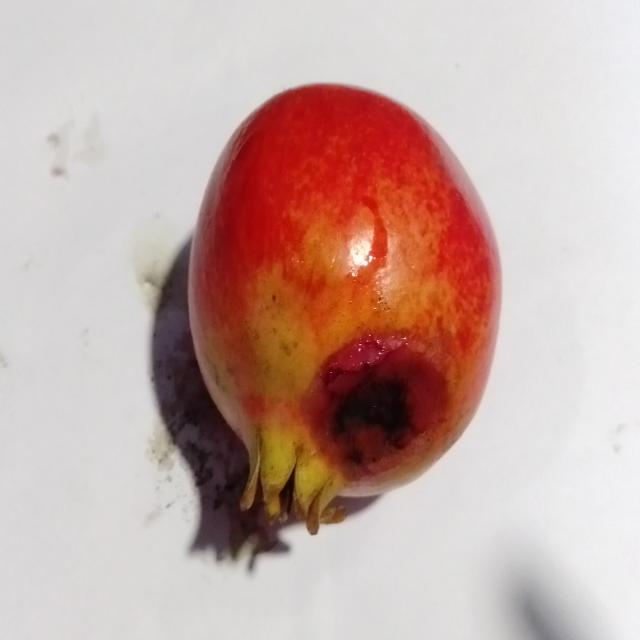Rotten: (183, 76, 506, 537)
